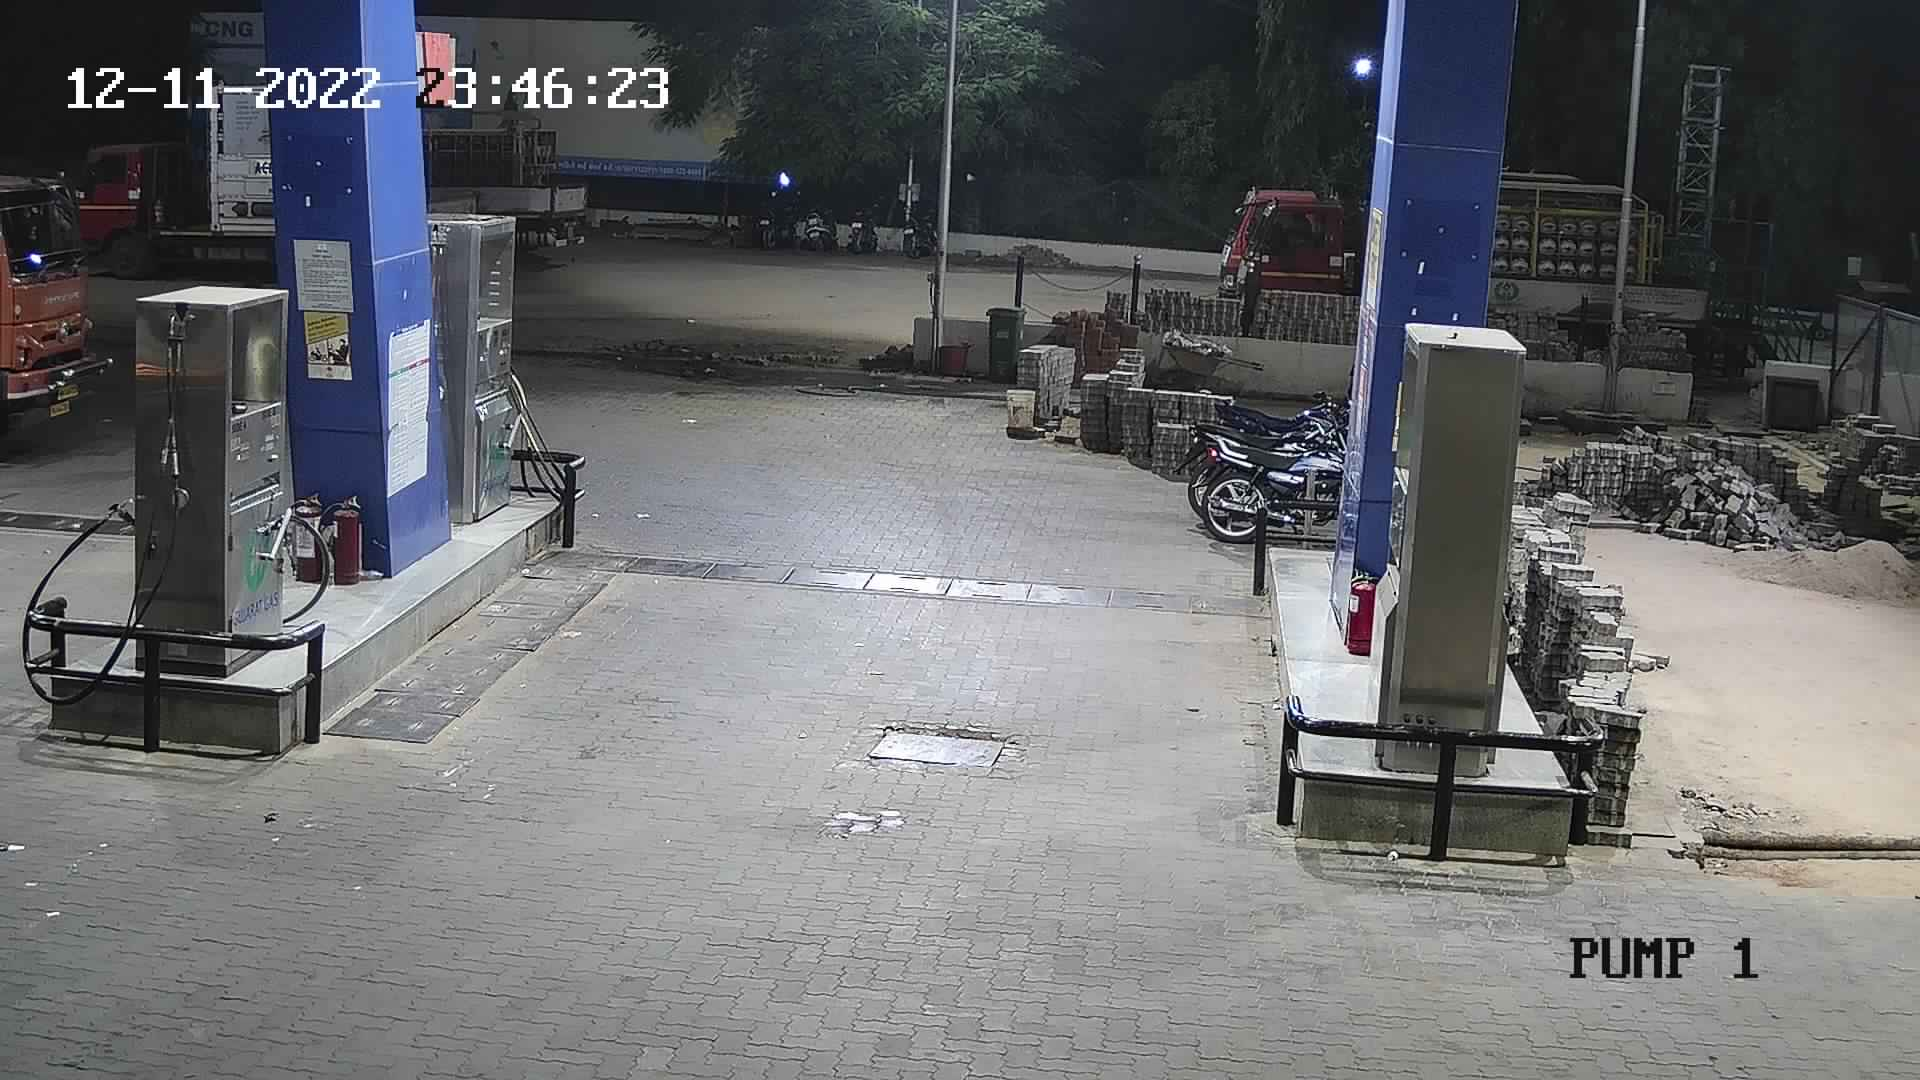Bike: (1179, 389, 1352, 558), (744, 182, 802, 253), (891, 196, 944, 264), (793, 193, 847, 257), (841, 193, 886, 260)
HMV: (49, 76, 285, 280), (406, 73, 599, 266), (0, 145, 113, 467), (1200, 160, 1373, 345)
